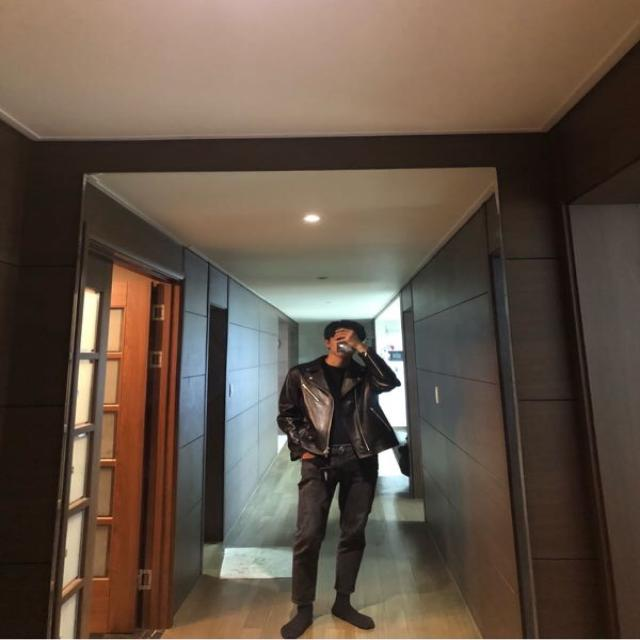denimpants: (296, 448, 382, 609)
jacket: (282, 353, 408, 458)
